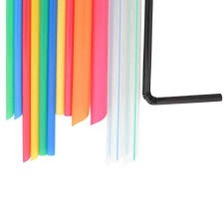drinking_straw: (135, 0, 223, 111), (87, 0, 110, 128)
